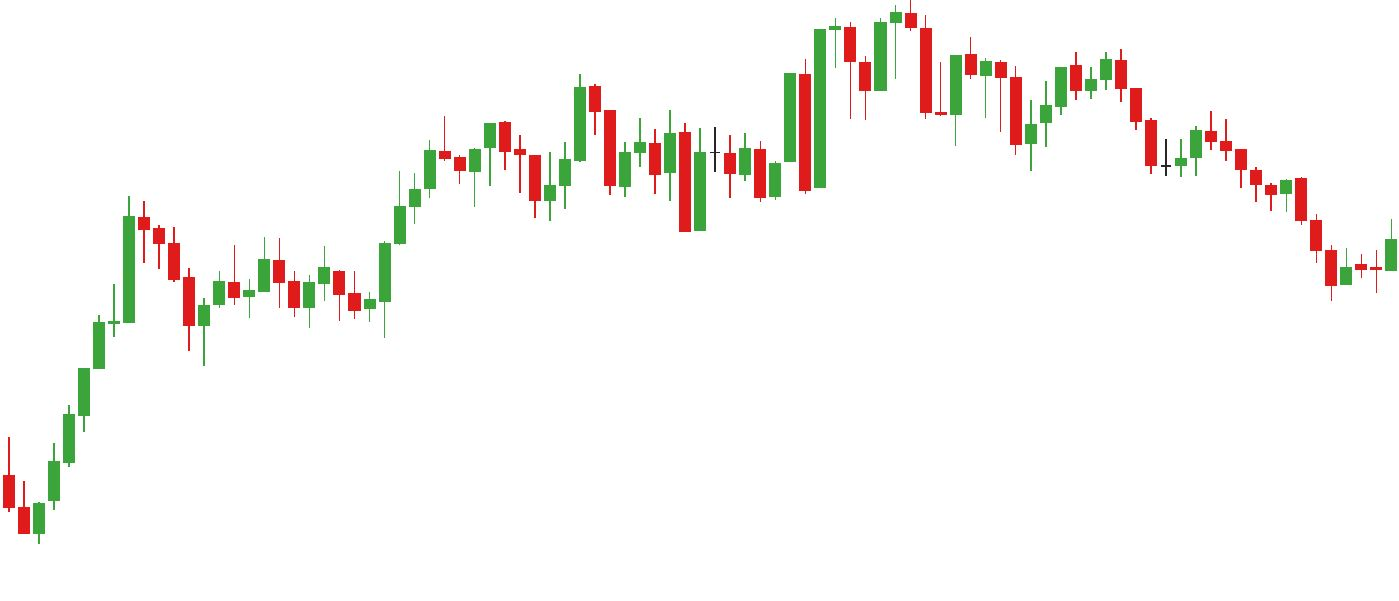buy: (527, 125, 708, 234)
